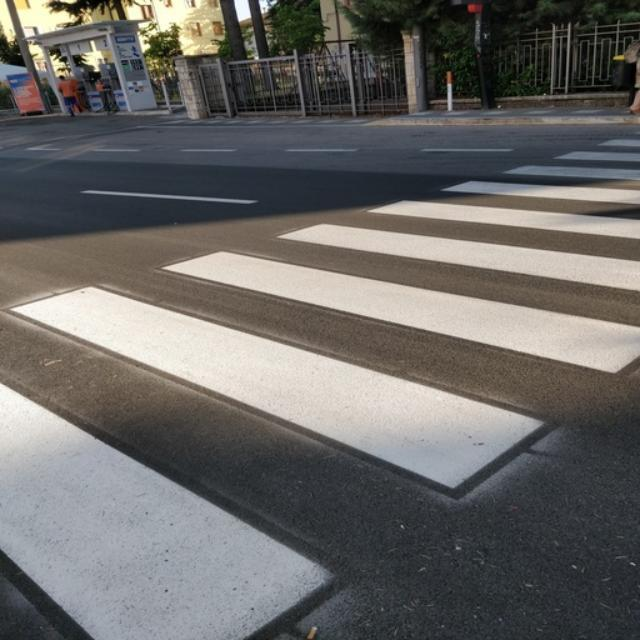sidewalk: (2, 132, 638, 638)
